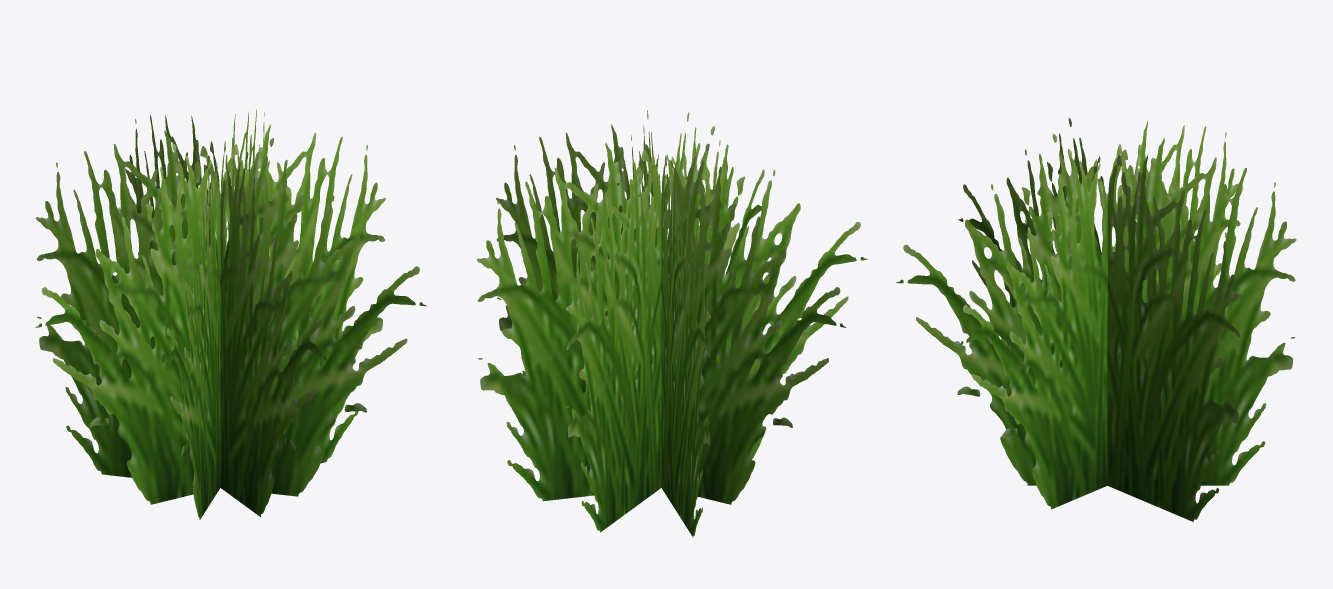
The model's file is Grass.fbx.
3 views of the same model, side by side, from view 1: azimuth 30°, elevation 25°; view 2: azimuth 150°, elevation 25°; view 3: azimuth 270°, elevation 25° (orthographic).
Visible parts, largest first — view 1: Grass; view 2: Grass; view 3: Grass.
Part boxes in pixels (<box>): Grass: <box>35,109,426,519</box>; Grass: <box>477,110,867,537</box>; Grass: <box>896,118,1296,521</box>.
Size of the model in its own units: 200 by 200 by 200.
Materials: 1 (1 with a texture image).
